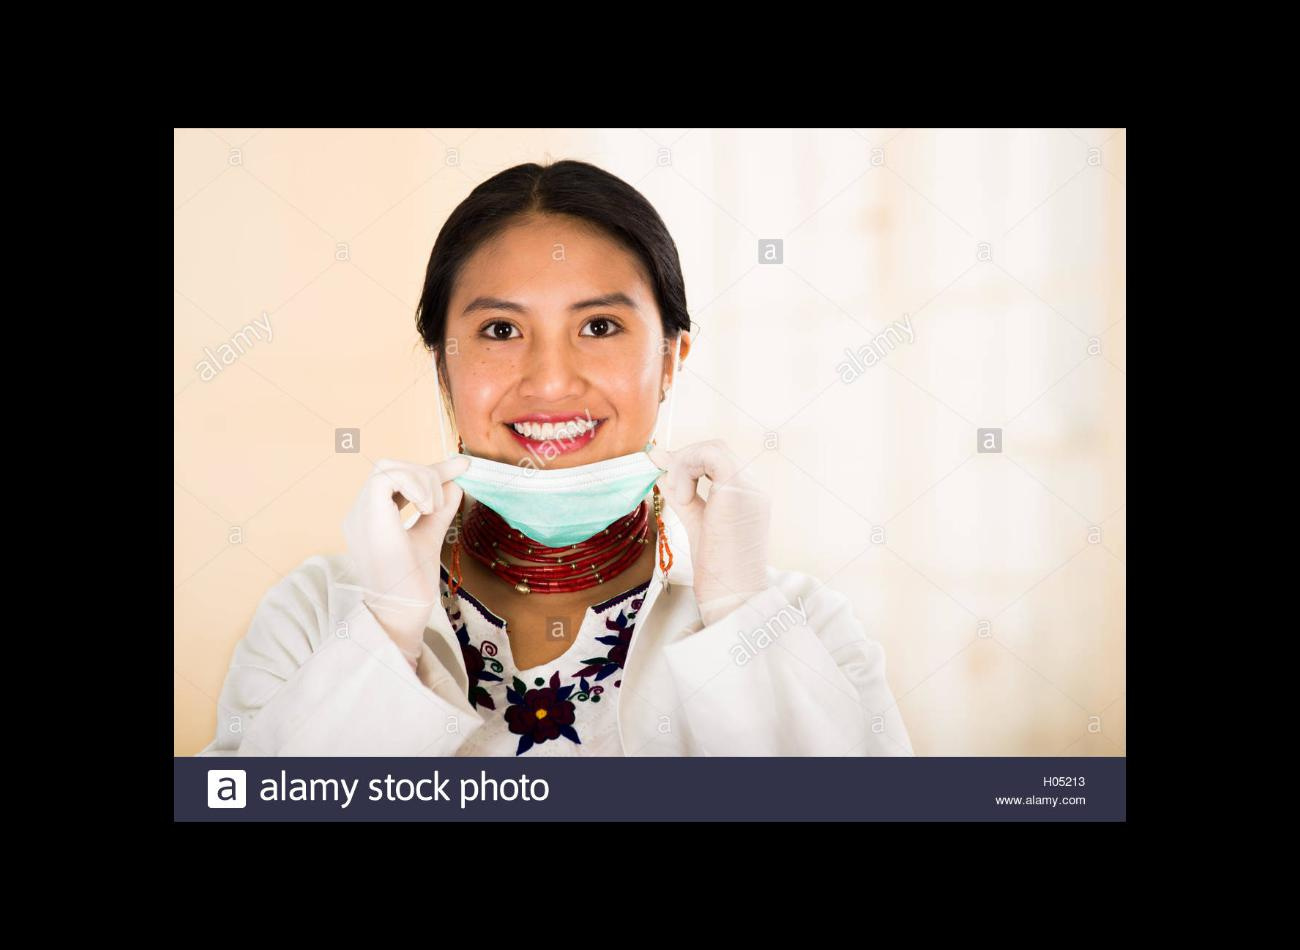mask_weared_incorrect: (457, 287, 656, 518)
